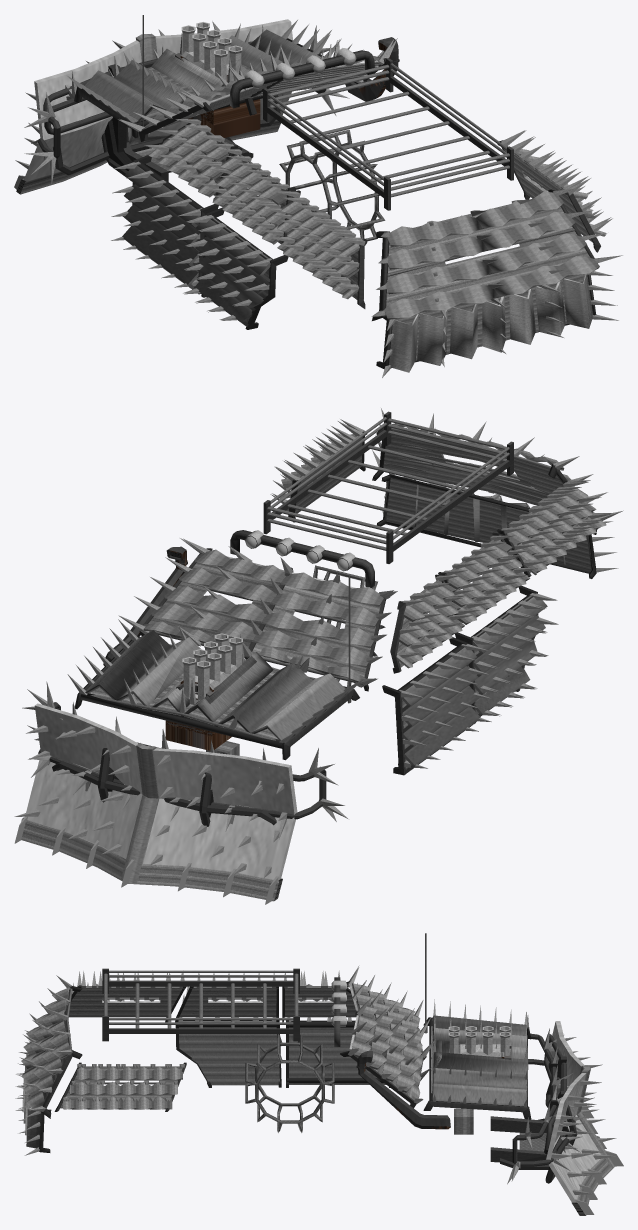
File: SUVArmor.fbx
3 renders of one model, top to bottom at view 1: azimuth 30°, elevation 25°; view 2: azimuth 150°, elevation 25°; view 3: azimuth 270°, elevation 25°, orthographic. The views are drawn at different scales.
Visible parts, largest first — view 1: windowreinforcedrear, roofrack, plow, trunkreinforcedrear, windowheavyrear, doorfrontreinforcedleft, hoodreinforcedfront, doorrearreinforcedleft, windowheavyspikedrear, airscooppiped, hoodreinforcedfrontscoop, windowrearreinforcedleft (+26 smaller); view 2: plow, windowreinforcedfront, plow_spiked, roofrack, hoodreinforcedfront, hoodreinforcedfrontscoop, windowheavyrear, doorfrontreinforcedleft, windowheavyfront, windowreinforcedrear, trunkheavyrear, doorrearreinforcedleft (+27 smaller); view 3: windowreinforcedrear, roofrack, hoodreinforcedfront, plow, windowheavyrear, windowreinforcedfront, doorrearheavyleft, hoodreinforcedfrontscoop, doorfrontheavyleft, chaintires, windowrearheavyleft, plow_spiked (+20 smaller).
Boxes of the visible parts, <box> form: windowreinforcedrear: <box>277,149,606,319</box>; roofrack: <box>263,58,513,210</box>; plow: <box>14,19,292,194</box>; trunkreinforcedrear: <box>389,274,592,372</box>; windowheavyrear: <box>291,140,600,320</box>; doorfrontreinforcedleft: <box>122,162,203,289</box>; hoodreinforcedfront: <box>84,29,324,126</box>; doorrearreinforcedleft: <box>194,215,272,326</box>; windowheavyspikedrear: <box>270,130,622,316</box>; airscooppiped: <box>175,22,260,137</box>; hoodreinforcedfrontscoop: <box>86,30,324,128</box>; windowrearreinforcedleft: <box>212,155,286,244</box>; plow: <box>14,703,297,904</box>; windowreinforcedfront: <box>140,549,383,685</box>; plow_spiked: <box>14,706,293,879</box>; roofrack: <box>263,411,513,563</box>; hoodreinforcedfront: <box>81,630,352,746</box>; hoodreinforcedfrontscoop: <box>80,631,346,748</box>; windowheavyrear: <box>288,427,597,577</box>; doorfrontreinforcedleft: <box>394,644,480,773</box>; windowheavyfront: <box>143,548,389,690</box>; windowreinforcedrear: <box>278,423,606,575</box>; trunkheavyrear: <box>377,474,596,578</box>; doorrearreinforcedleft: <box>471,593,547,716</box>; windowreinforcedrear: <box>21,984,182,1109</box>; roofrack: <box>102,968,299,1041</box>; hoodreinforcedfront: <box>430,1015,527,1106</box>; plow: <box>544,1021,623,1215</box>; windowheavyrear: <box>41,985,186,1118</box>; windowreinforcedfront: <box>352,983,422,1100</box>; doorrearheavyleft: <box>175,1020,281,1087</box>; hoodreinforcedfrontscoop: <box>429,1015,527,1106</box>; doorfrontheavyleft: <box>286,1020,389,1087</box>; chaintires: <box>245,1033,334,1132</box>; windowrearheavyleft: <box>175,986,278,1022</box>; plow_spiked: <box>544,1037,616,1194</box>.
Bounding box in the file's own units: 301 × 219 × 625.
